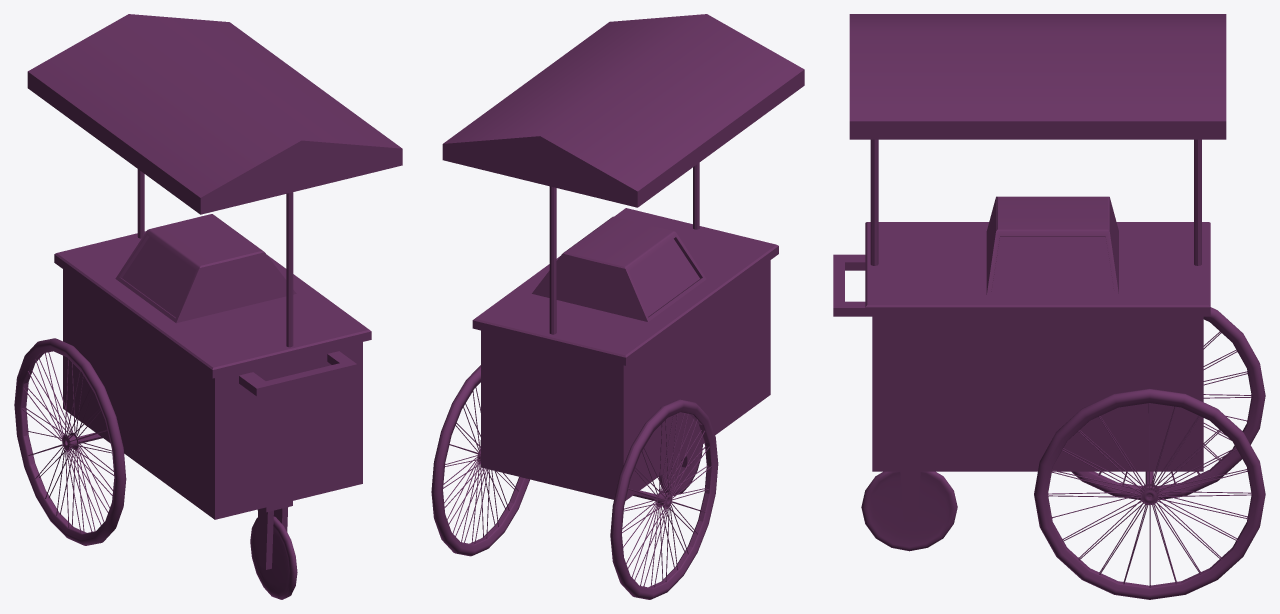
The model's file is Helados.fbx.
3 renders of one model, left to right at view 1: azimuth 30°, elevation 25°; view 2: azimuth 150°, elevation 25°; view 3: azimuth 270°, elevation 25°, orthographic. The views are drawn at different scales.
Visible parts, largest first — view 1: cart, roof, polySurface1, wheel_small, cylinder, cylinder2; view 2: cart, roof, polySurface1, wheel2:polySurface1, cylinder2, wheel_small; view 3: cart, roof, wheel2:polySurface1, wheel_small, polySurface1, cylinder, cylinder2.
Part boxes in pixels (bbox=[...]): cart: bbox=[54, 214, 371, 569]; roof: bbox=[27, 14, 402, 214]; polySurface1: bbox=[14, 338, 126, 545]; wheel_small: bbox=[250, 516, 297, 599]; cylinder: bbox=[286, 192, 293, 347]; cylinder2: bbox=[137, 169, 144, 238]; cart: bbox=[472, 208, 778, 500]; roof: bbox=[442, 14, 804, 207]; polySurface1: bbox=[610, 399, 718, 599]; wheel2:polySurface1: bbox=[431, 365, 529, 556]; cylinder2: bbox=[549, 186, 556, 334]; wheel_small: bbox=[659, 444, 702, 495]; cart: bbox=[833, 196, 1210, 521]; roof: bbox=[849, 14, 1226, 139]; wheel2:polySurface1: bbox=[1034, 389, 1265, 599]; wheel_small: bbox=[861, 471, 957, 551]; polySurface1: bbox=[1071, 307, 1265, 499]; cylinder: bbox=[870, 139, 878, 265]; cylinder2: bbox=[1194, 139, 1201, 265].
Bounding box in the file's own units: 125 × 281 × 212.
